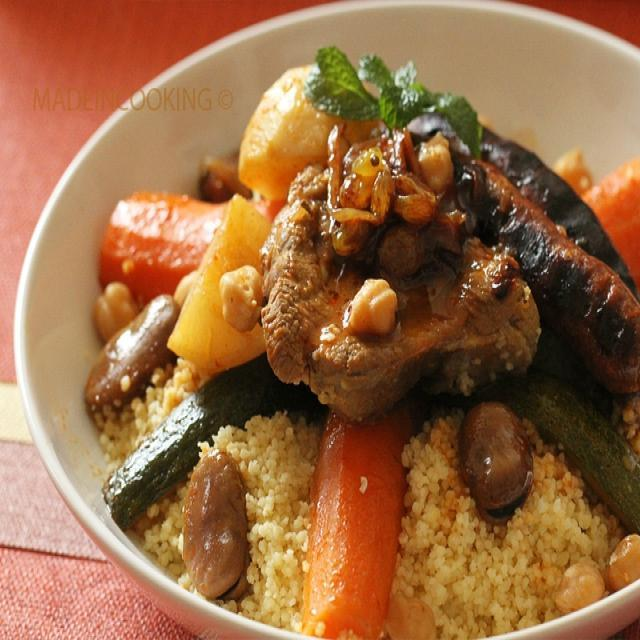Couscous: (18, 16, 640, 640)
